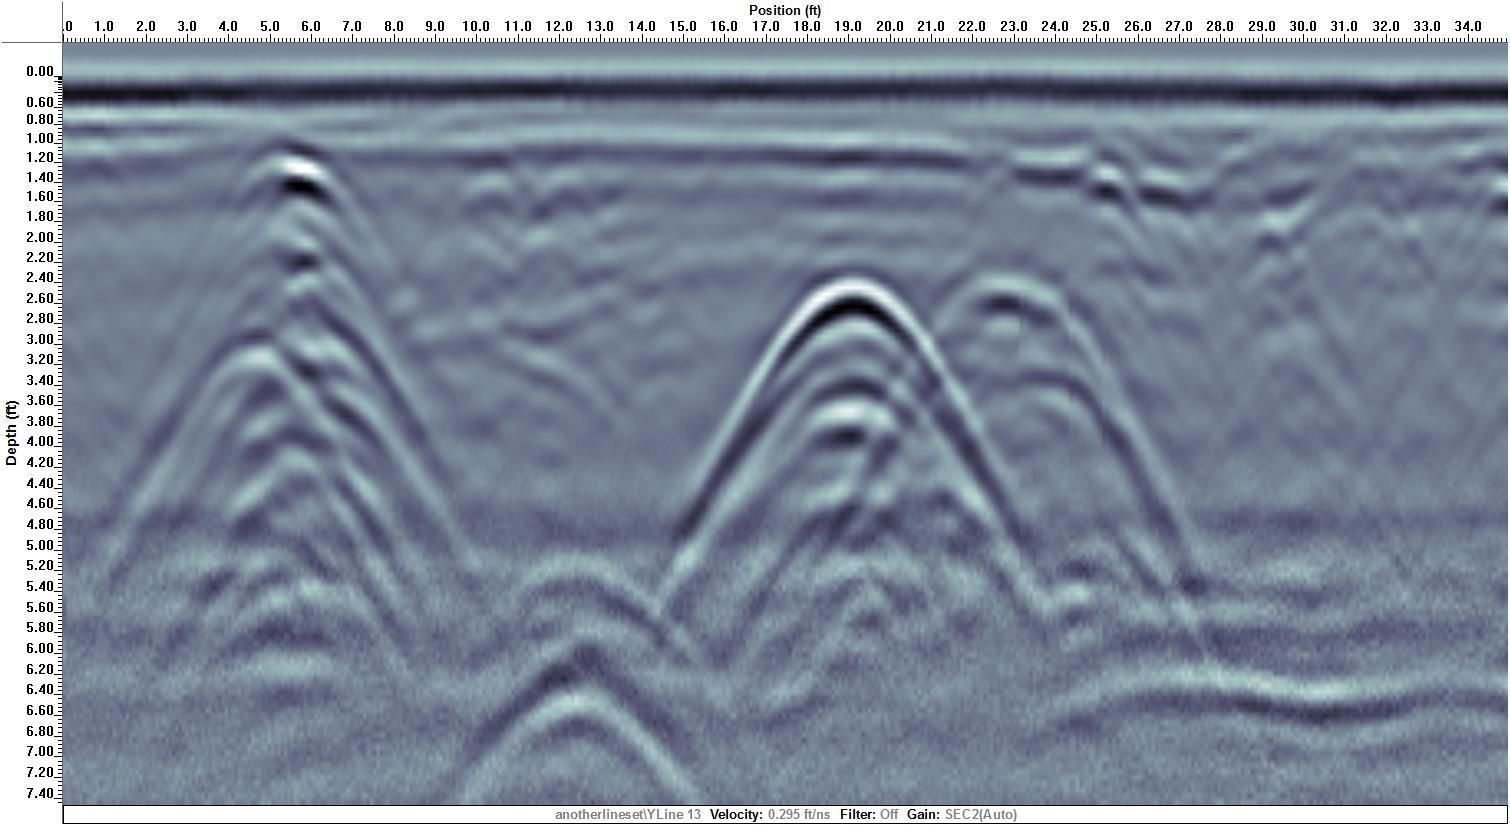hyperbola: (882, 245, 1140, 498), (721, 265, 987, 432)
